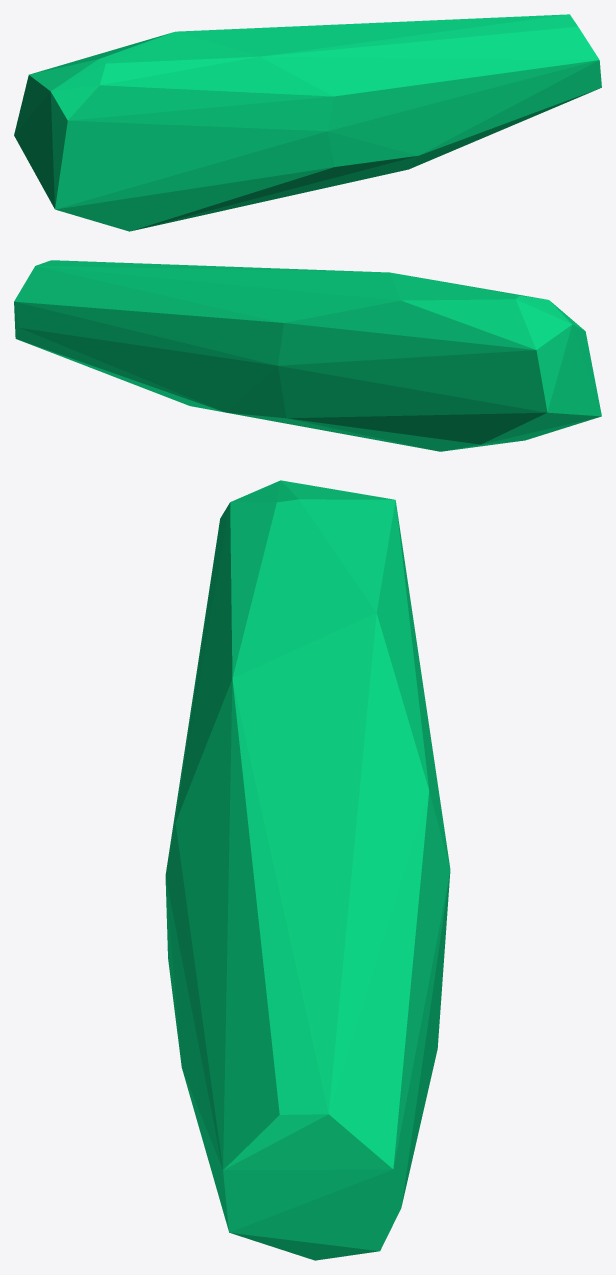
File: shin_convex_piece_000.obj
The picture shows the model from 3 angles, top to bottom: view 1: azimuth 30°, elevation 25°; view 2: azimuth 150°, elevation 25°; view 3: azimuth 270°, elevation 25°; orthographic projection. The views are drawn at different scales.
Size of the model in its own units: 0.4095 by 0.1242 by 0.0928.
